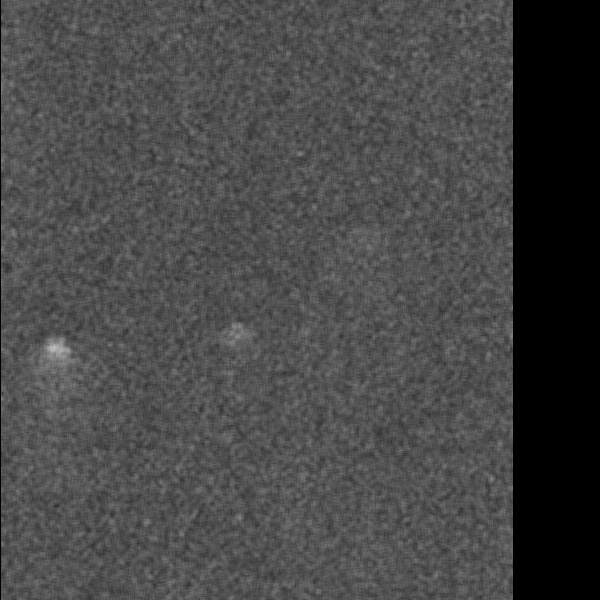spark: (40, 275, 88, 318), (18, 437, 69, 475)
